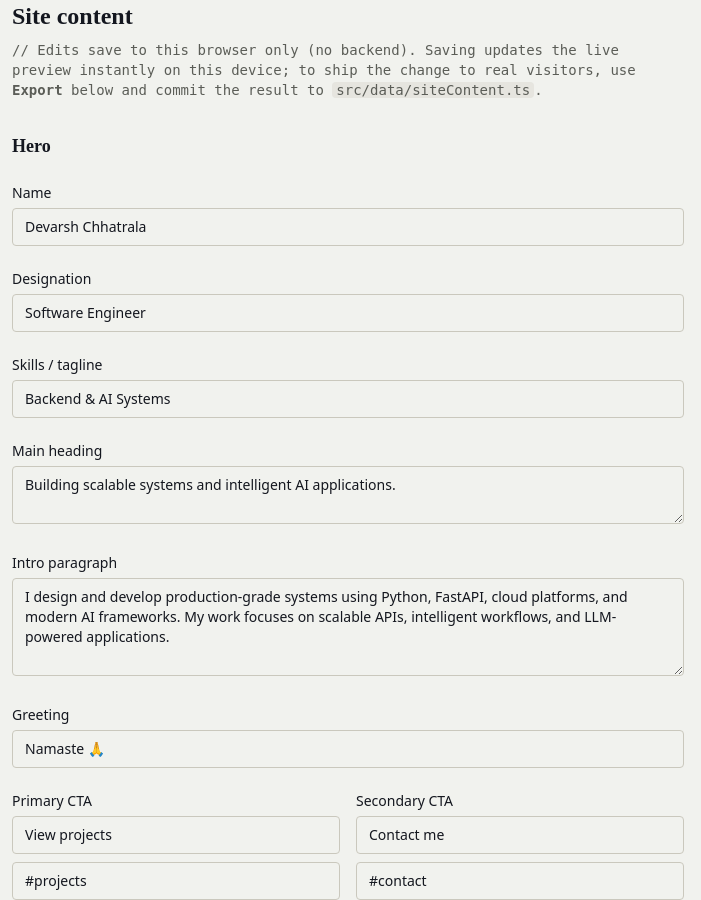
Test: ContentEditorPage › saves edits to the shared store
The width and height of the screenshot is (701, 900).
Replace the text in the field labelled "Name" with "Jane Doe" at coordinates (348, 227), box [12, 208, 684, 246]
(page scrolled)
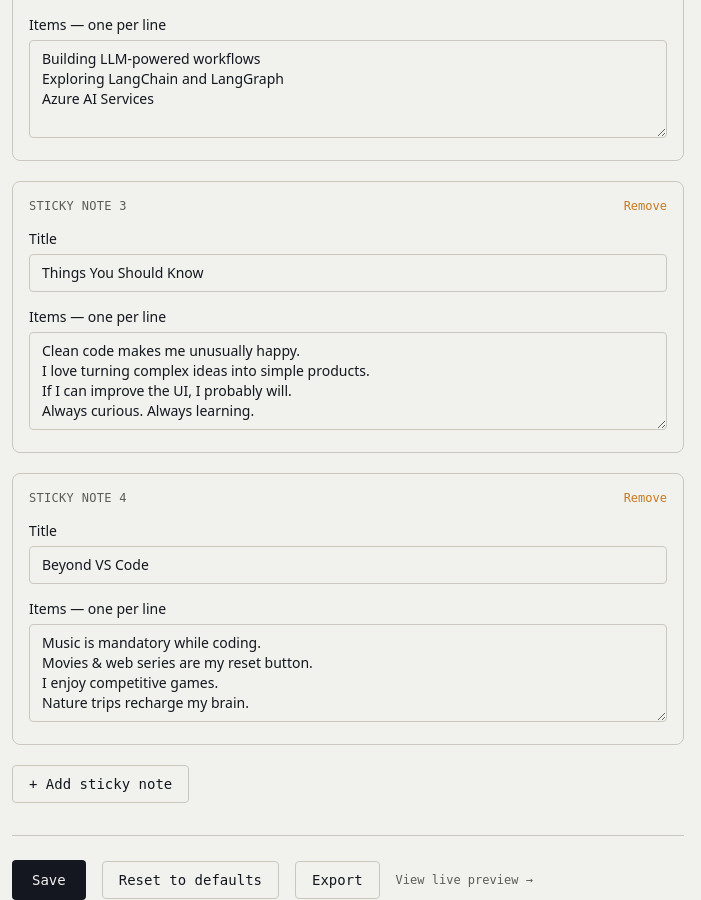
Click the button "Save" at coordinates (49, 880), box [12, 860, 86, 899]
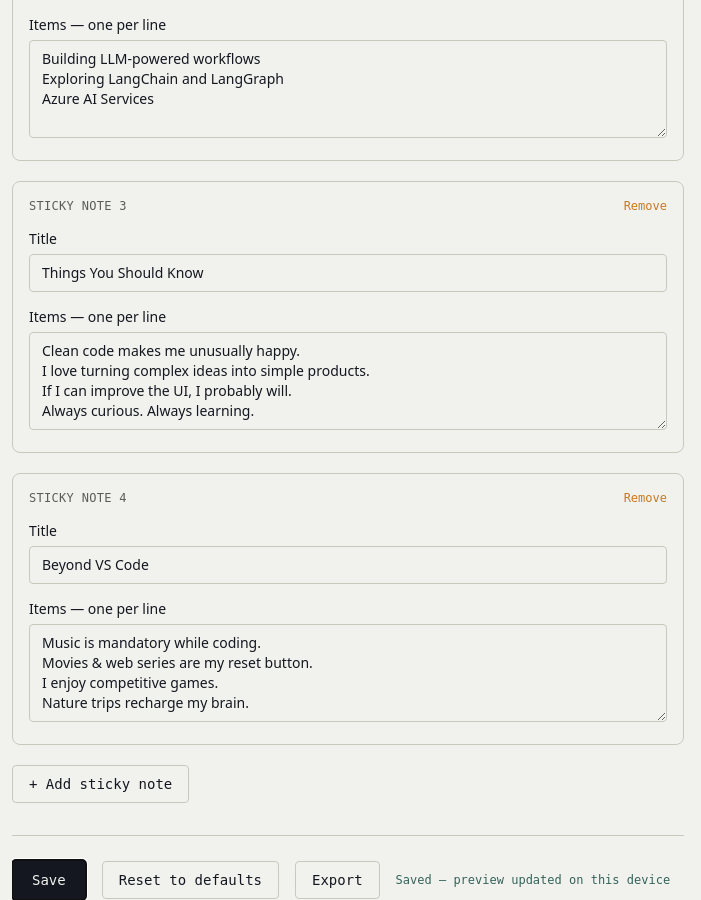
Check: the text "Saved — preview updated on this device" is shown, box [396, 872, 670, 888]
